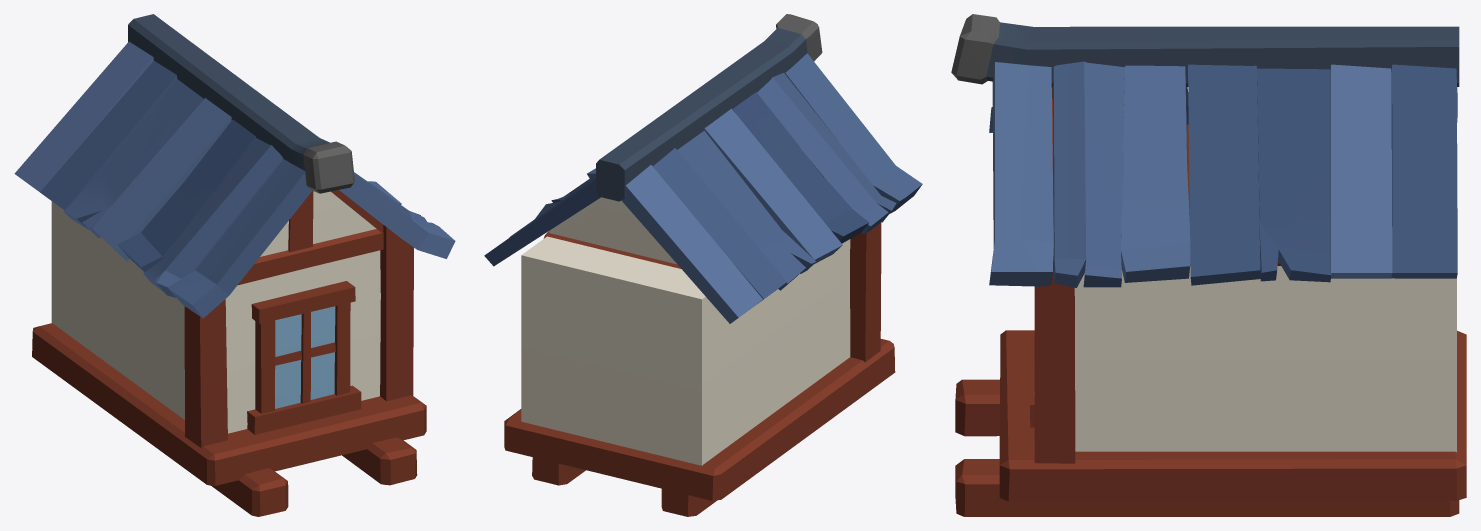
The model's file is House_2Floor_Side_D.fbx.
3 views of the same model, side by side, from view 1: azimuth 30°, elevation 25°; view 2: azimuth 150°, elevation 25°; view 3: azimuth 270°, elevation 25° (orthographic). The views are drawn at different scales.
Parts seen in each view (by area): view 1: House_2Floor_Side_D; view 2: House_2Floor_Side_D; view 3: House_2Floor_Side_D.
Part boxes in pixels (left/top/right/bottom): House_2Floor_Side_D: left=14, top=14, right=455, bottom=516; House_2Floor_Side_D: left=484, top=14, right=922, bottom=516; House_2Floor_Side_D: left=951, top=14, right=1466, bottom=516.
Size of the model in its own units: 153 by 189 by 198.
